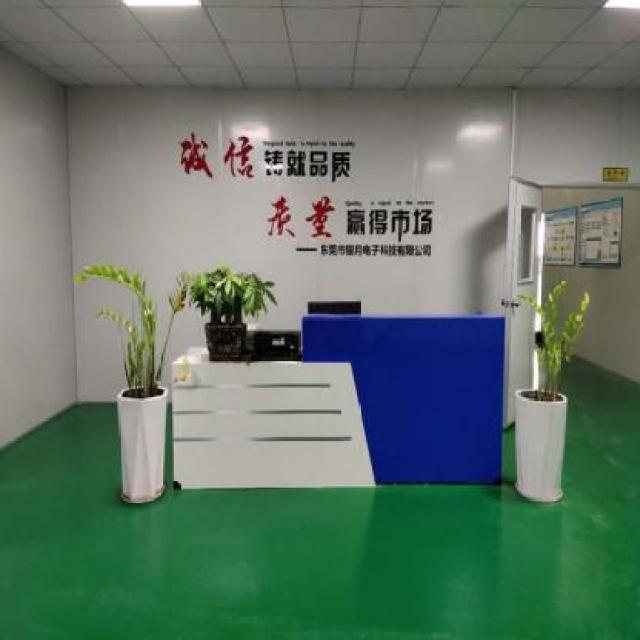frontdesk: (165, 295, 514, 501)
